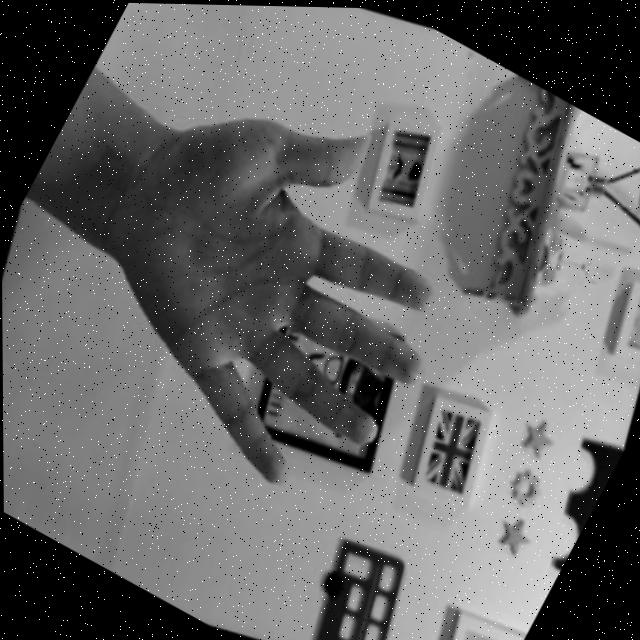hand: (0, 12, 526, 542)
